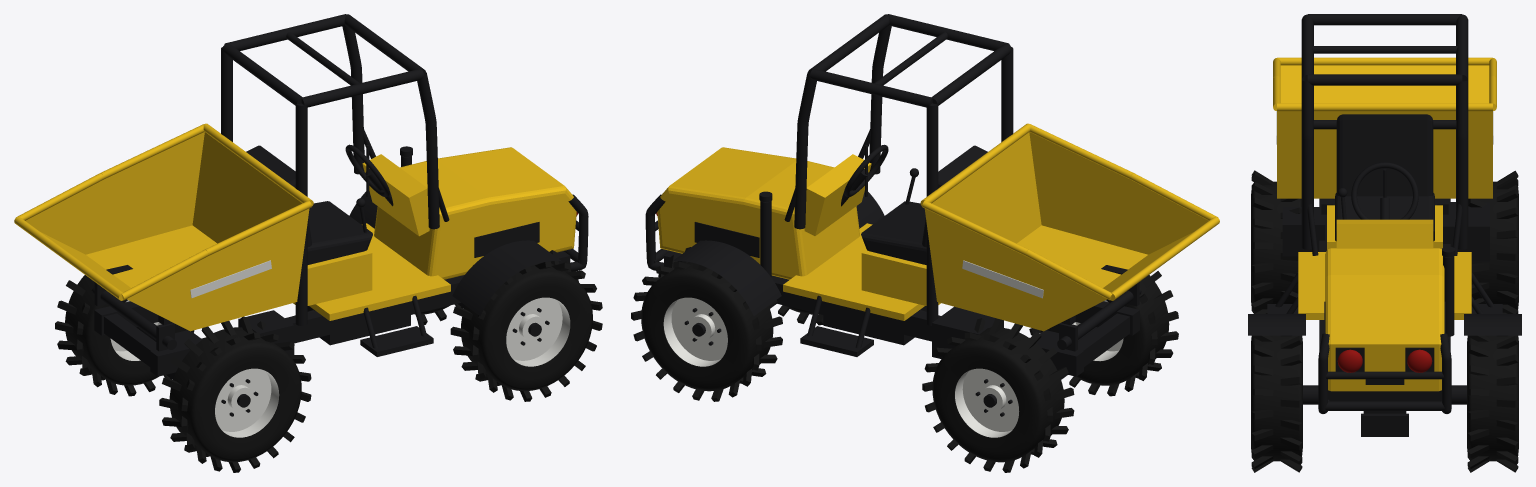
Rendered from traktor_mini.obj.
3 renders of one model, left to right at view 1: azimuth 30°, elevation 25°; view 2: azimuth 150°, elevation 25°; view 3: azimuth 270°, elevation 25°, orthographic. The views are drawn at different scales.
Parts seen in each view (by area): view 1: hood, bed_side_L, bed_shell, bed_side_R, wheel_rear_R_tyre, wheel_front_R_tyre, floor_deck, chassis_rail_R, wheel_rear_L_tyre, wheel_rear_R_lugs, fender_front_R, seat_cushion (+34 smaller); view 2: hood, bed_side_R, bed_shell, bed_side_L, wheel_rear_L_tyre, wheel_front_L_tyre, floor_deck, wheel_rear_R_tyre, wheel_rear_L_lugs, chassis_rail_L, fender_front_L, seat_cushion (+36 smaller); view 3: hood, bed_shell, seat_back, wheel_front_R_tyre, wheel_front_L_tyre, wheel_rear_R_tyre, wheel_front_L_lugs, wheel_front_R_lugs, floor_deck, dash, wheel_rear_L_tyre, wheel_rear_R_lugs (+35 smaller).
Part boxes in pixels (bbox=[...]): hood: bbox=[374, 147, 576, 279]; bed_side_L: bbox=[25, 132, 204, 254]; bed_shell: bbox=[41, 132, 301, 292]; bed_side_R: bbox=[127, 208, 309, 331]; wheel_rear_R_tyre: bbox=[169, 327, 301, 462]; wheel_front_R_tyre: bbox=[461, 261, 592, 391]; floor_deck: bbox=[309, 223, 450, 320]; chassis_rail_R: bbox=[150, 251, 570, 376]; wheel_rear_L_tyre: bbox=[65, 275, 194, 385]; wheel_rear_R_lugs: bbox=[159, 316, 311, 472]; fender_front_R: bbox=[452, 240, 561, 316]; seat_cushion: bbox=[307, 201, 372, 264]; hood: bbox=[657, 147, 859, 279]; bed_side_R: bbox=[1029, 132, 1208, 254]; bed_shell: bbox=[932, 132, 1193, 292]; bed_side_L: bbox=[924, 208, 1107, 331]; wheel_rear_L_tyre: bbox=[932, 327, 1064, 462]; wheel_front_L_tyre: bbox=[641, 262, 773, 391]; floor_deck: bbox=[783, 223, 924, 320]; wheel_rear_R_tyre: bbox=[1039, 275, 1169, 385]; wheel_rear_L_lugs: bbox=[922, 318, 1074, 472]; chassis_rail_L: bbox=[664, 251, 1083, 376]; fender_front_L: bbox=[672, 240, 781, 315]; seat_cushion: bbox=[861, 201, 926, 264]; hood: bbox=[1325, 248, 1444, 391]; bed_shell: bbox=[1277, 65, 1492, 198]; seat_back: bbox=[1336, 114, 1433, 196]; wheel_front_R_tyre: bbox=[1251, 335, 1302, 461]; wheel_front_L_tyre: bbox=[1467, 335, 1518, 461]; wheel_rear_R_tyre: bbox=[1251, 181, 1301, 313]; wheel_front_L_lugs: bbox=[1467, 335, 1518, 472]; wheel_front_R_lugs: bbox=[1251, 335, 1302, 472]; floor_deck: bbox=[1298, 252, 1471, 319]; dash: bbox=[1336, 219, 1433, 248]; wheel_rear_L_tyre: bbox=[1468, 181, 1518, 312]; wheel_rear_R_lugs: bbox=[1251, 170, 1301, 313].
Bounding box in the file's own units: 3.05 × 1.97 × 1.42.
